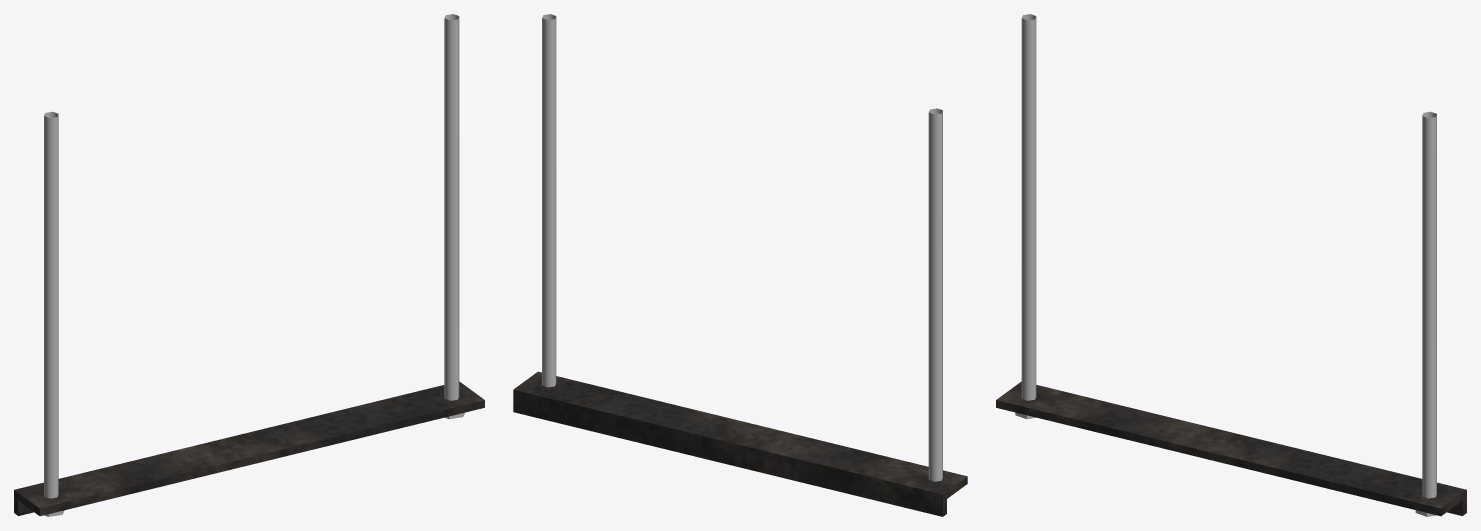
File: pipes_holder_1.fbx
3 views of the same model, side by side, from view 1: azimuth 30°, elevation 25°; view 2: azimuth 150°, elevation 25°; view 3: azimuth 330°, elevation 25° (orthographic). The views are drawn at different scales.
Parts seen in each view (by area): view 1: pipes_holder_1; view 2: pipes_holder_1; view 3: pipes_holder_1.
Part boxes in pixels (box(x1,y1,x2,y2)): pipes_holder_1: box(14, 14, 484, 516); pipes_holder_1: box(513, 14, 967, 516); pipes_holder_1: box(996, 14, 1466, 516).
Size of the model in its own units: 0.6 by 0.06 by 0.52.
